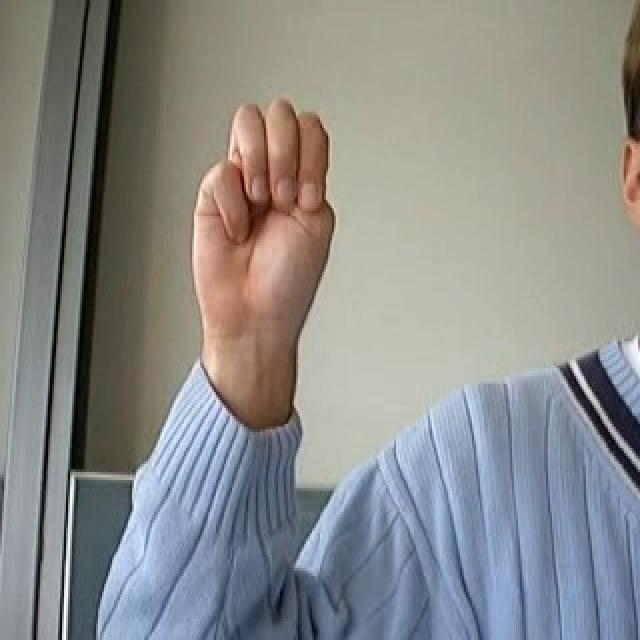M: (182, 94, 343, 372)
